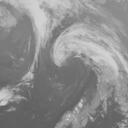cyclone: (52, 22, 121, 72)
